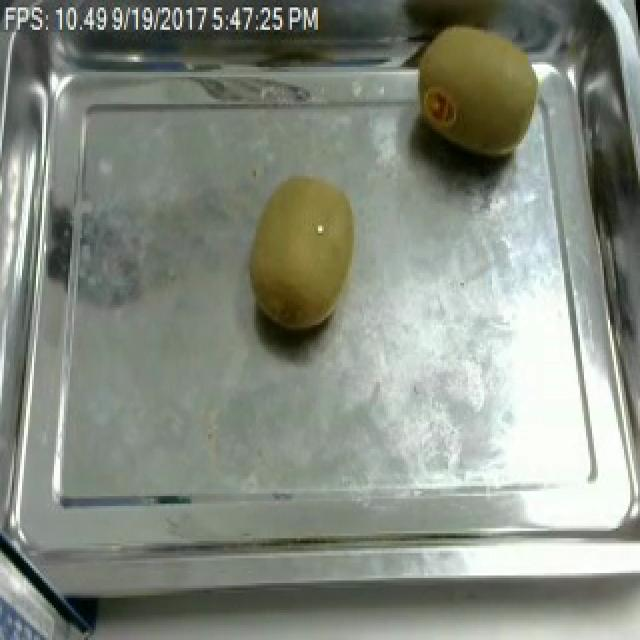Fruit: (402, 10, 556, 176), (242, 164, 366, 340)
